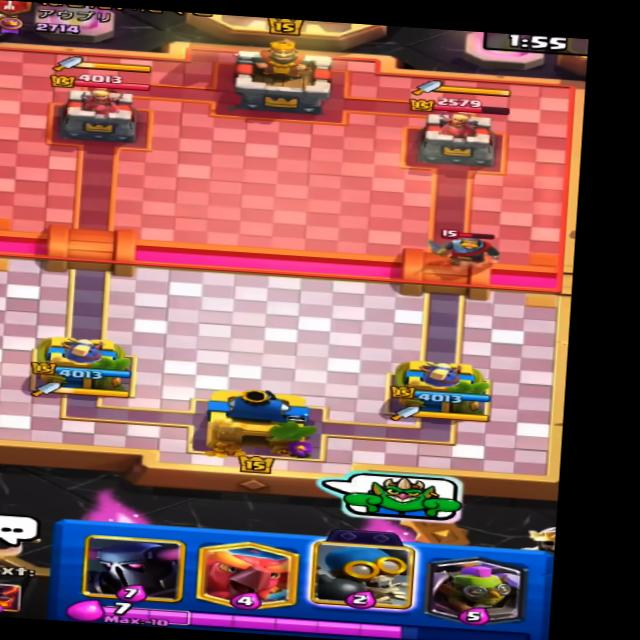knight: (430, 222, 510, 271)
